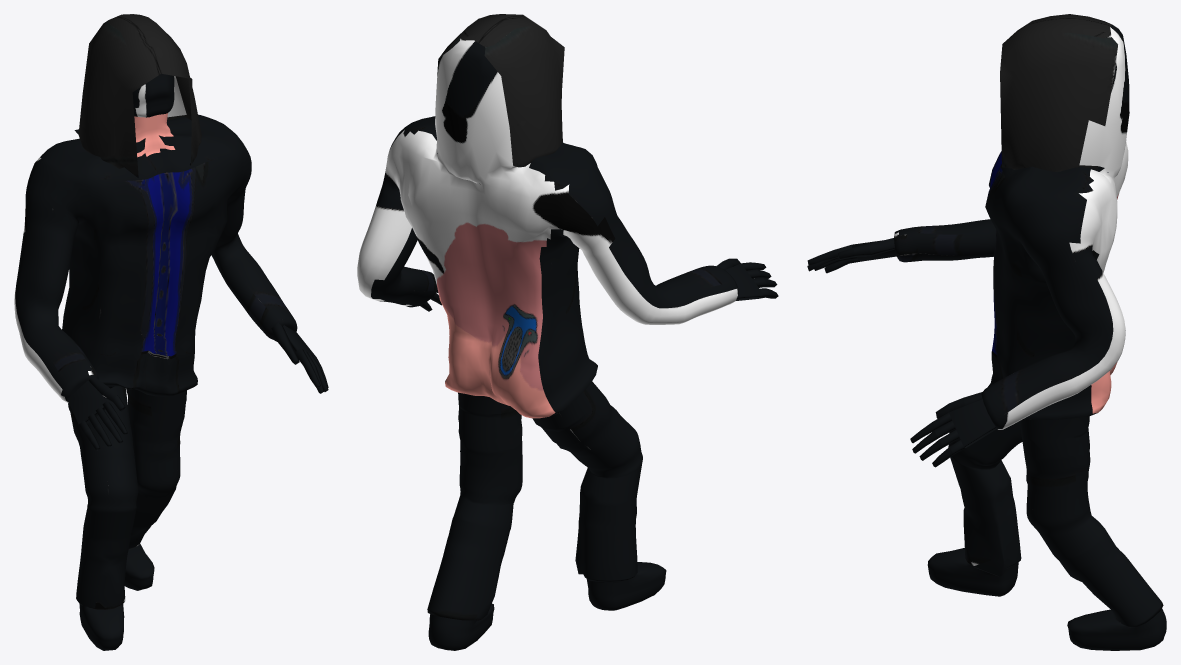
File: keyFrame03.obj
3 renders of one model, left to right at view 1: azimuth 30°, elevation 25°; view 2: azimuth 150°, elevation 25°; view 3: azimuth 270°, elevation 25°, orthographic. The views are drawn at different scales.
Visible parts, largest first — view 1: pasted__polySurface71 group4; view 2: pasted__polySurface71 group4; view 3: pasted__polySurface71 group4.
Boxes of the visible parts, box(x1,y1,x2,y2) form: pasted__polySurface71 group4: box(14, 14, 328, 650); pasted__polySurface71 group4: box(357, 14, 778, 650); pasted__polySurface71 group4: box(807, 14, 1166, 650).
Size of the model in its own units: 6.6 by 12.63 by 6.61.
Materials: 1 (1 with a texture image).
